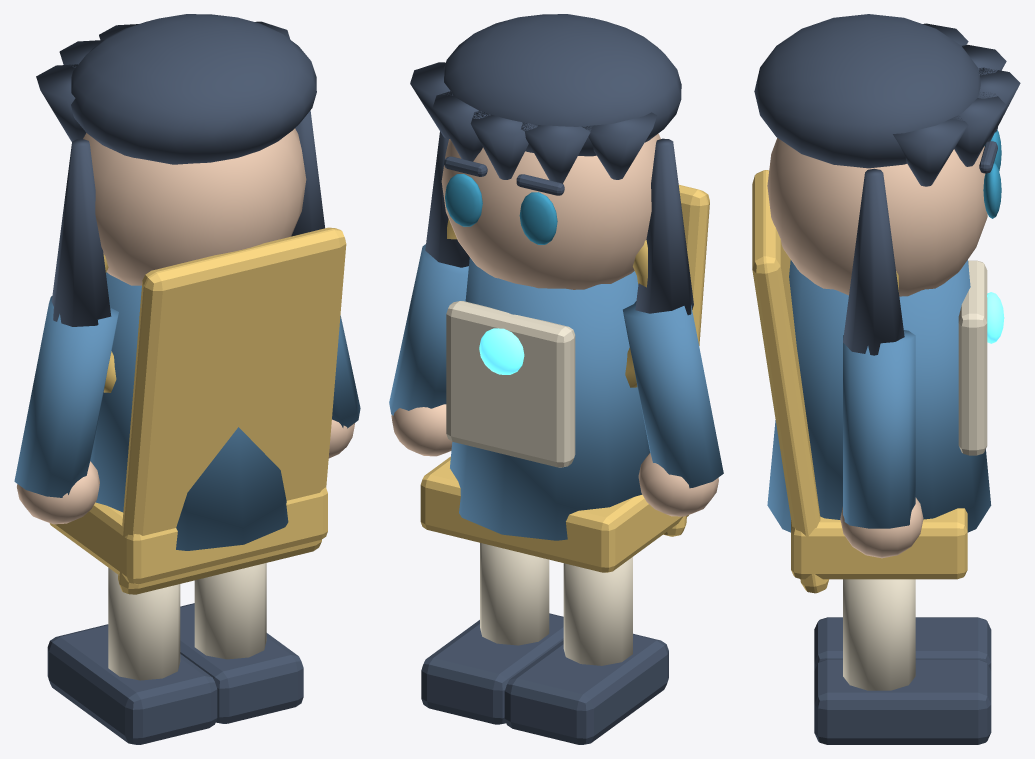
Rendered from hero_player.glb.
3 views of the same model, side by side, from view 1: azimuth 30°, elevation 25°; view 2: azimuth 150°, elevation 25°; view 3: azimuth 270°, elevation 25° (orthographic). The views are drawn at different scales.
Visible parts, largest first — view 1: Player_Cape, Player_HairCap, Player_Head, Player_Torso, Player_Sleeve, Player_Boot, Player_Waist, Player_SideLock_-0.48, Player_Boot.001, Player_Leg, Player_Leg.001, Player_Glove (+5 smaller); view 2: Player_Torso, Player_HairCap, Player_Head, Player_ChestPanel, Player_Sleeve, Player_Boot, Player_Waist, Player_Boot.001, Player_Sleeve.001, Player_Leg, Player_Leg.001, Player_SideLock_-0.48 (+15 smaller); view 3: Player_HairCap, Player_Torso, Player_Head, Player_Sleeve.001, Player_Boot.001, Player_Cape, Player_Waist, Player_Leg.001, Player_SideLock_0.48, Player_ChestPanel, Player_Boot, Player_Bang_04 (+6 smaller).
Boxes of the visible parts, x1,y1,x2,y2 form: Player_Cape: [118, 227, 346, 594]; Player_HairCap: [71, 14, 316, 164]; Player_Head: [83, 128, 306, 285]; Player_Torso: [90, 272, 288, 550]; Player_Sleeve: [14, 296, 118, 497]; Player_Boot: [47, 624, 217, 744]; Player_Waist: [49, 487, 327, 584]; Player_SideLock_-0.48: [51, 139, 111, 326]; Player_Boot.001: [180, 603, 303, 723]; Player_Leg: [108, 568, 180, 680]; Player_Leg.001: [194, 563, 266, 659]; Player_Glove: [17, 461, 99, 524]; Player_Torso: [450, 257, 649, 540]; Player_HairCap: [444, 14, 681, 156]; Player_Head: [441, 133, 660, 289]; Player_ChestPanel: [446, 301, 575, 467]; Player_Sleeve: [623, 301, 723, 488]; Player_Boot: [504, 633, 668, 744]; Player_Waist: [420, 456, 688, 572]; Player_Boot.001: [421, 613, 563, 724]; Player_Sleeve.001: [389, 244, 468, 415]; Player_Leg: [563, 557, 632, 665]; Player_Leg.001: [480, 543, 549, 645]; Player_SideLock_-0.48: [635, 138, 693, 315]; Player_HairCap: [754, 14, 980, 168]; Player_Torso: [767, 260, 991, 532]; Player_Head: [767, 138, 987, 296]; Player_Sleeve.001: [843, 330, 915, 528]; Player_Boot.001: [814, 659, 991, 744]; Player_Cape: [752, 170, 828, 593]; Player_Waist: [791, 508, 967, 579]; Player_Leg.001: [843, 579, 915, 690]; Player_SideLock_0.48: [843, 168, 904, 355]; Player_ChestPanel: [958, 260, 987, 455]; Player_Boot: [814, 617, 991, 670]; Player_Bang_04: [893, 116, 968, 186].
Size of the model in its own units: 1.47 by 2.85 by 1.03.
